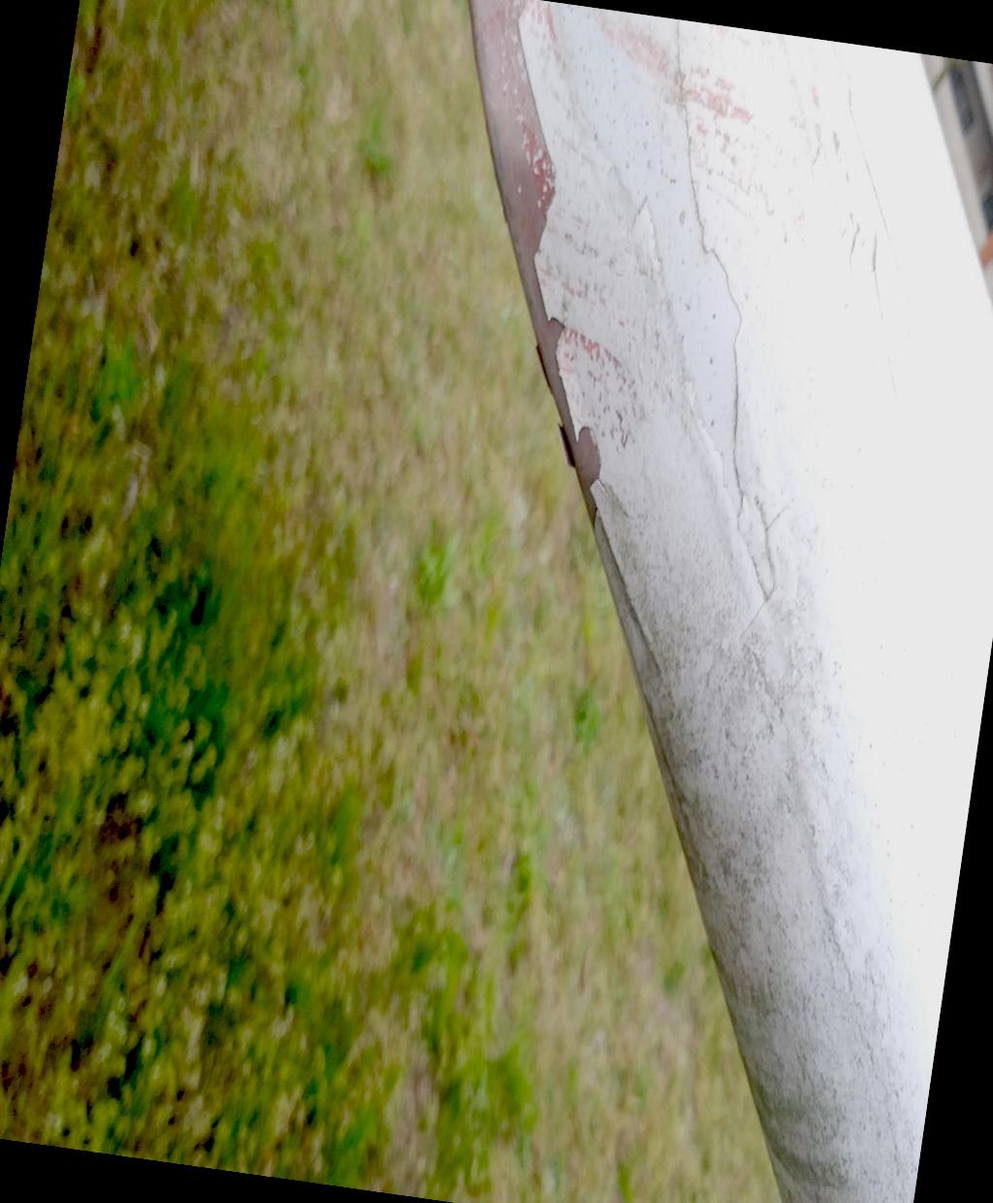corrosion: (381, 478, 746, 1203)
